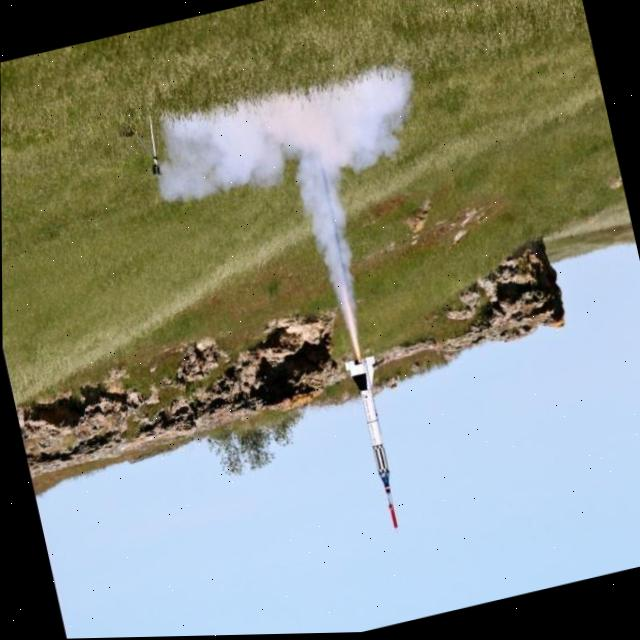missile: (341, 347, 412, 540)
